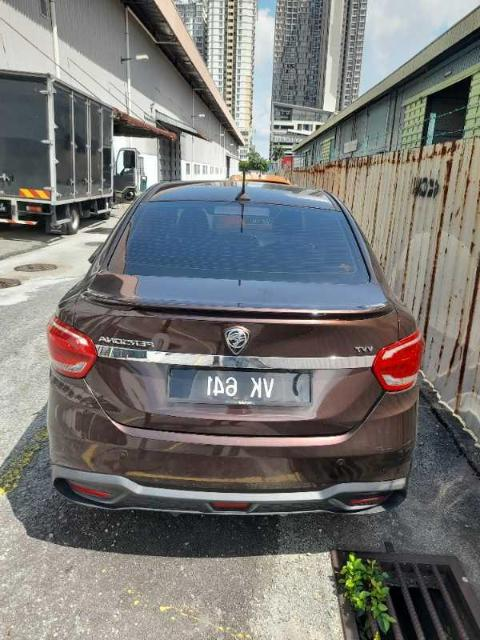License_Plate: (166, 366, 313, 409)
car: (46, 174, 426, 518)
